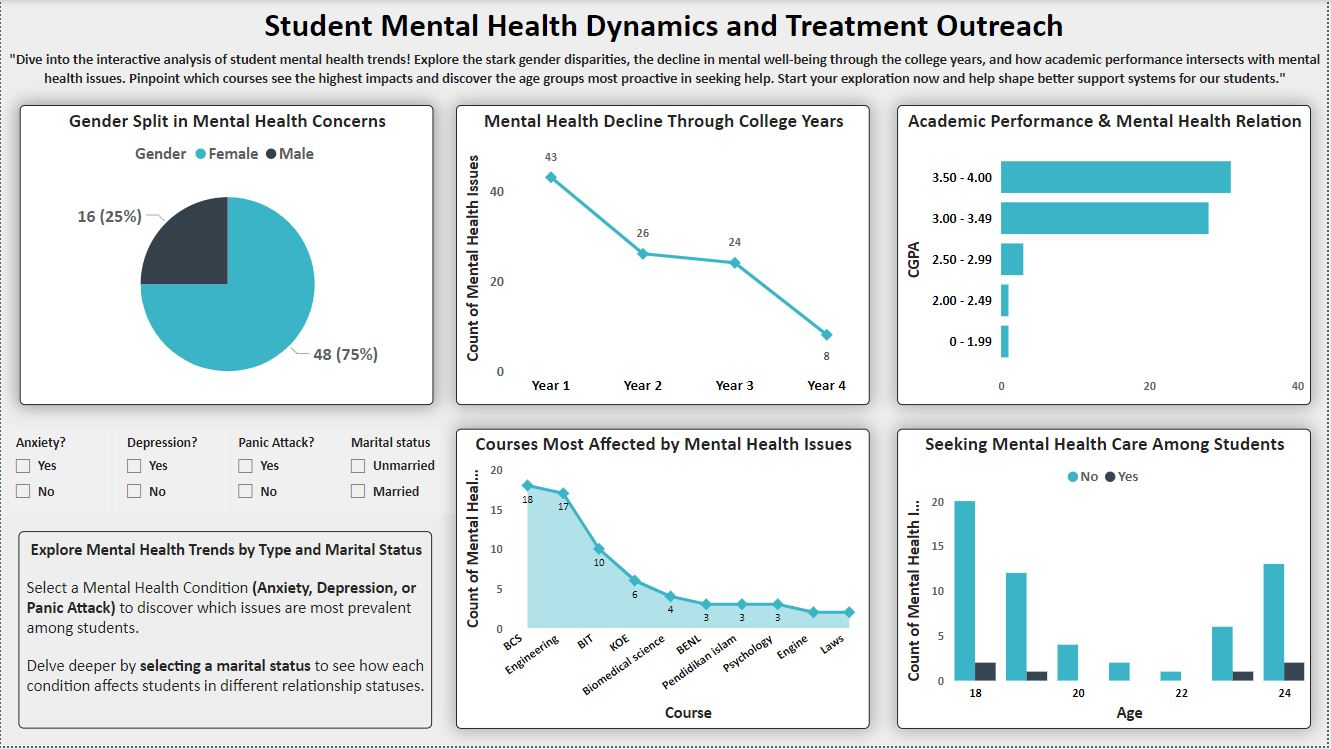

This screenshot's page, from the dashboard's own definition file:
{"tool":"powerbi","page":{"name":"Page 1","canvas":[1280,720],"ordinal":0},"visuals":[{"type":"pieChart","title":"Gender Split in Mental Health Concerns","fields":{"Y":["Student_Mental_Health.With mental health issues"],"Category":["Student_Mental_Health.Gender"]},"box":[18.1,101.3,399.3,289.5],"z":0},{"type":"lineChart","title":"Mental Health Decline Through College Years","fields":{"Category":["Student Mental health (2).Year of study"],"Y":["CountNonNull(Student_Mental_Health.Mental Health Issues)"]},"box":[439.1,101.5,399.3,289.5],"z":1000},{"type":"stackedAreaChart","title":"Courses Most Affected by Mental Health Issues","fields":{"Category":["Student_Mental_Health.Course"],"Y":["CountNonNull(Student_Mental_Health.Mental Health Issues)"]},"box":[439.1,413.8,399.3,289.5],"z":2000},{"type":"clusteredColumnChart","title":"Seeking Mental Health Care Among Students","fields":{"Series":["Student_Mental_Health.Did you seek any specialist for a treatment?"],"Y":["Student_Mental_Health.Student with mental health issues"],"Category":["Student_Mental_Health.Age"]},"box":[865,413.8,399.3,289.5],"z":3000},{"type":"clusteredBarChart","title":"Academic Performance & Mental Health Relation","fields":{"Category":["Student_Mental_Health.CGPA"],"Y":["Student_Mental_Health.Student with mental health issues"]},"box":[864.5,101.5,399.3,289.5],"z":4000},{"type":"textbox","box":[18.1,0,1243.8,50.7],"z":5000},{"type":"slicer","fields":{"Values":["Student_Mental_Health.Marital status"]},"box":[324.5,413.8,114.6,82],"z":6000},{"type":"slicer","fields":{"Values":["Student_Mental_Health.Do you have Panic attack?"]},"box":[216,413.8,108.6,82],"z":7000},{"type":"slicer","fields":{"Values":["Student_Mental_Health.Do you have Anxiety?"]},"box":[1.2,413.8,105,80.8],"z":8000},{"type":"slicer","fields":{"Values":["Student_Mental_Health.Do you have Depression?"]},"box":[108.6,413.8,109.8,82],"z":9000},{"type":"textbox","box":[16.9,512.7,399.3,190.6],"z":10000},{"type":"textbox","box":[1.2,42.2,1278.8,54.3],"z":11000}]}

Visuals, with their boxes in screenshot pixels (x1, y1, x2, y2), scaled from the page's 1280x720 canvas onto the 1331x749 screenshot:
"Gender Split in Mental Health Concerns" pieChart: detection(19, 105, 434, 407)
"Mental Health Decline Through College Years" lineChart: detection(457, 106, 872, 407)
"Courses Most Affected by Mental Health Issues" stackedAreaChart: detection(457, 430, 872, 732)
"Seeking Mental Health Care Among Students" clusteredColumnChart: detection(899, 430, 1315, 732)
"Academic Performance & Mental Health Relation" clusteredBarChart: detection(899, 106, 1314, 407)
textbox: detection(19, 0, 1312, 53)
slicer - Student_Mental_Health.Marital status: detection(337, 430, 457, 516)
slicer - Student_Mental_Health.Do you have Panic attack?: detection(225, 430, 338, 516)
slicer - Student_Mental_Health.Do you have Anxiety?: detection(1, 430, 110, 515)
slicer - Student_Mental_Health.Do you have Depression?: detection(113, 430, 227, 516)
textbox: detection(18, 533, 433, 732)
textbox: detection(1, 44, 1330, 100)
